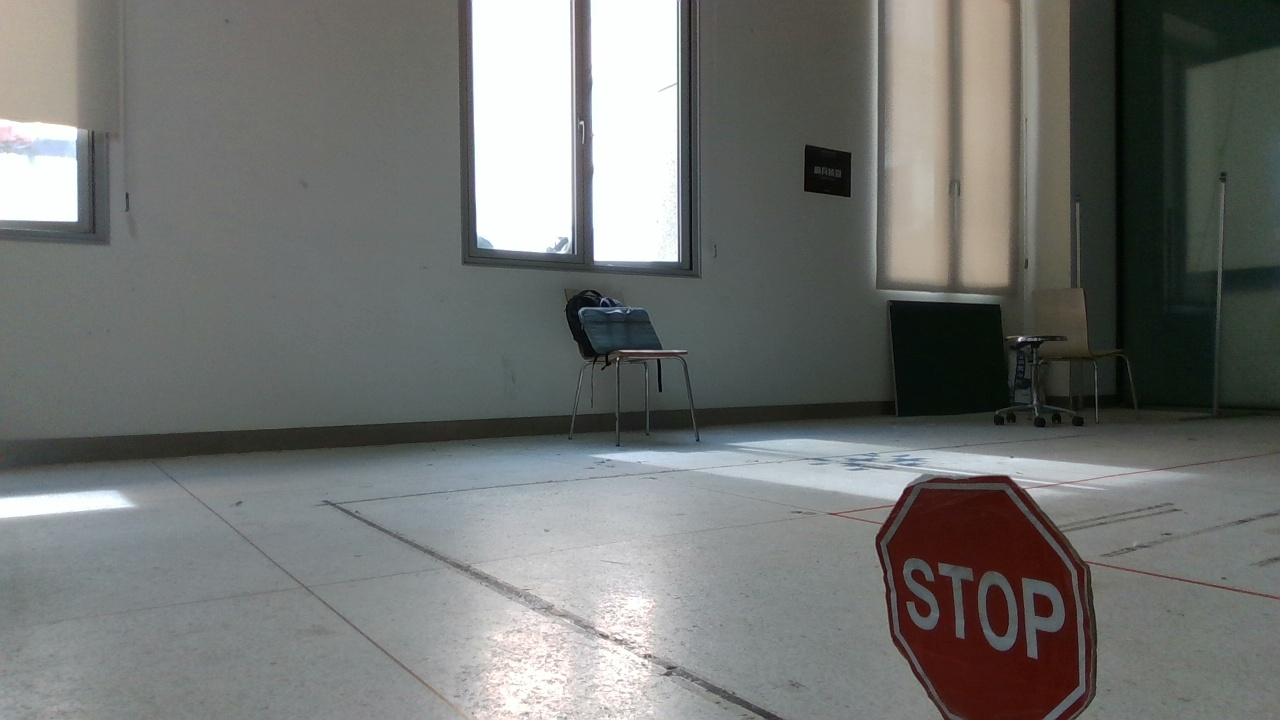stop_sign: (842, 453, 1119, 720)
